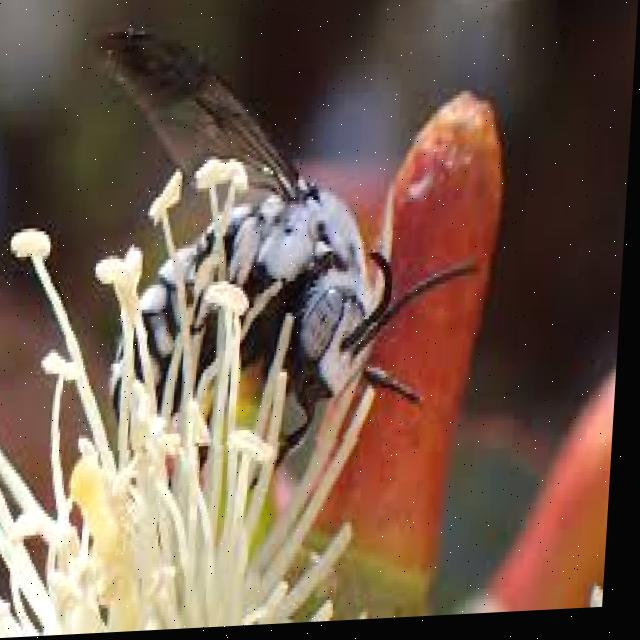Thyreus: (66, 4, 472, 454)
